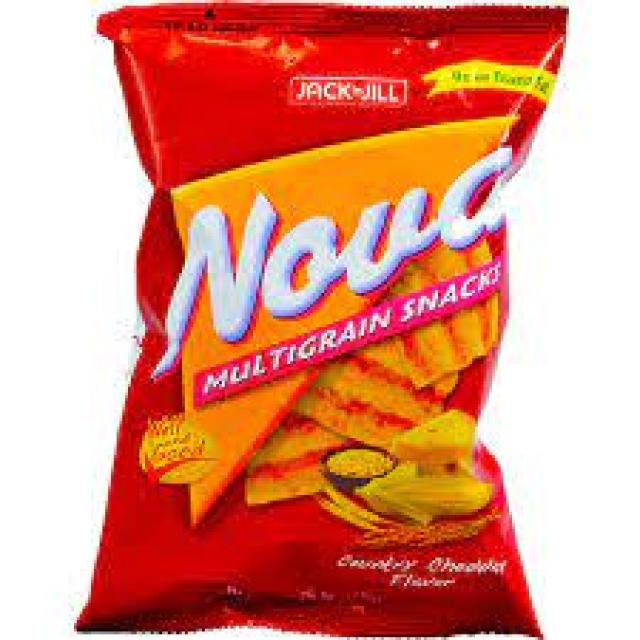junkfood wrapper: (79, 2, 566, 636)
